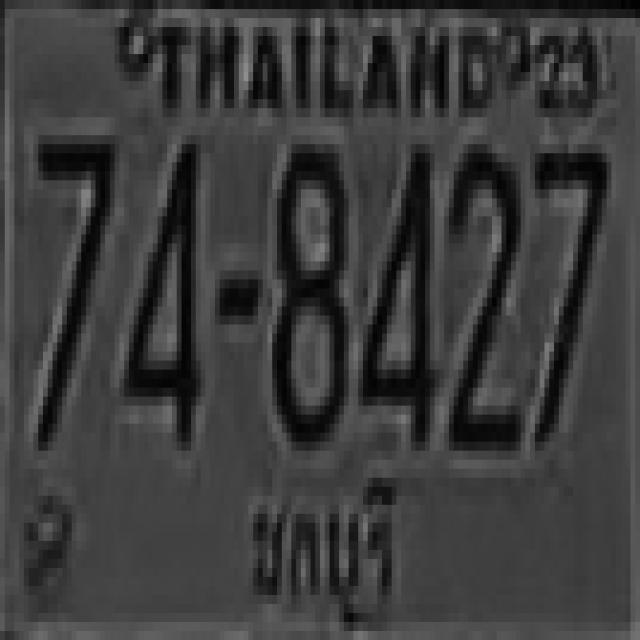2: (447, 140, 518, 446)
4: (119, 135, 196, 442), (358, 135, 430, 442)
7: (34, 126, 114, 442), (530, 140, 607, 437)
8: (272, 135, 344, 442)
Chonburi: (237, 466, 407, 638)
